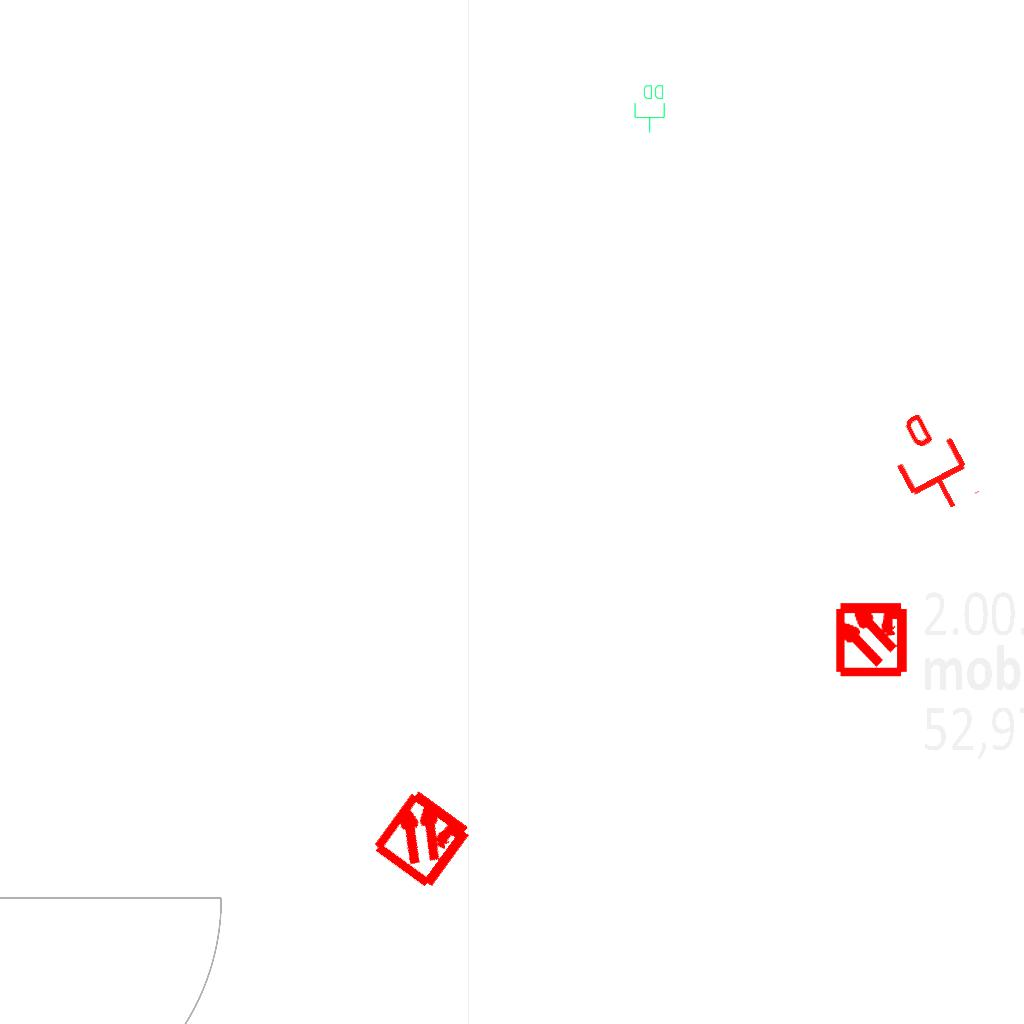Datenanschluss_einfach: (876, 403, 985, 525)
Datenanschluss_zweifach: (633, 83, 667, 134)
OT_Multisensormelder_(Kombination_RMO_WMD): (344, 758, 503, 917), (815, 581, 928, 694)
